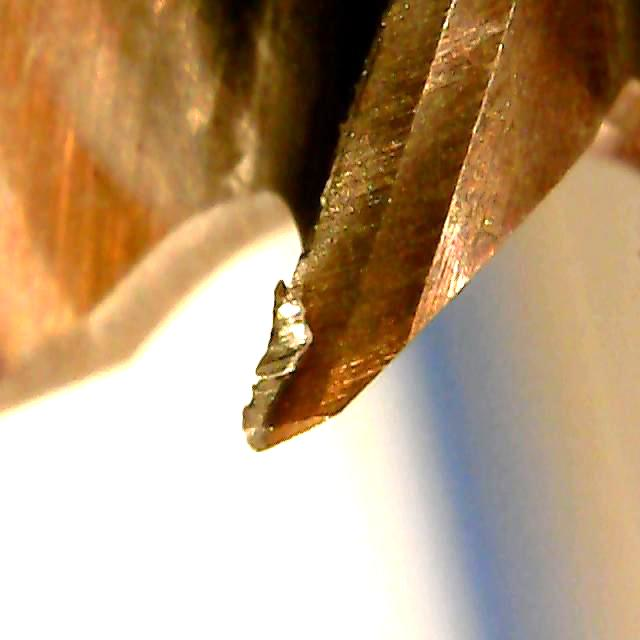Tool-wear-class-2: (226, 205, 404, 463)
